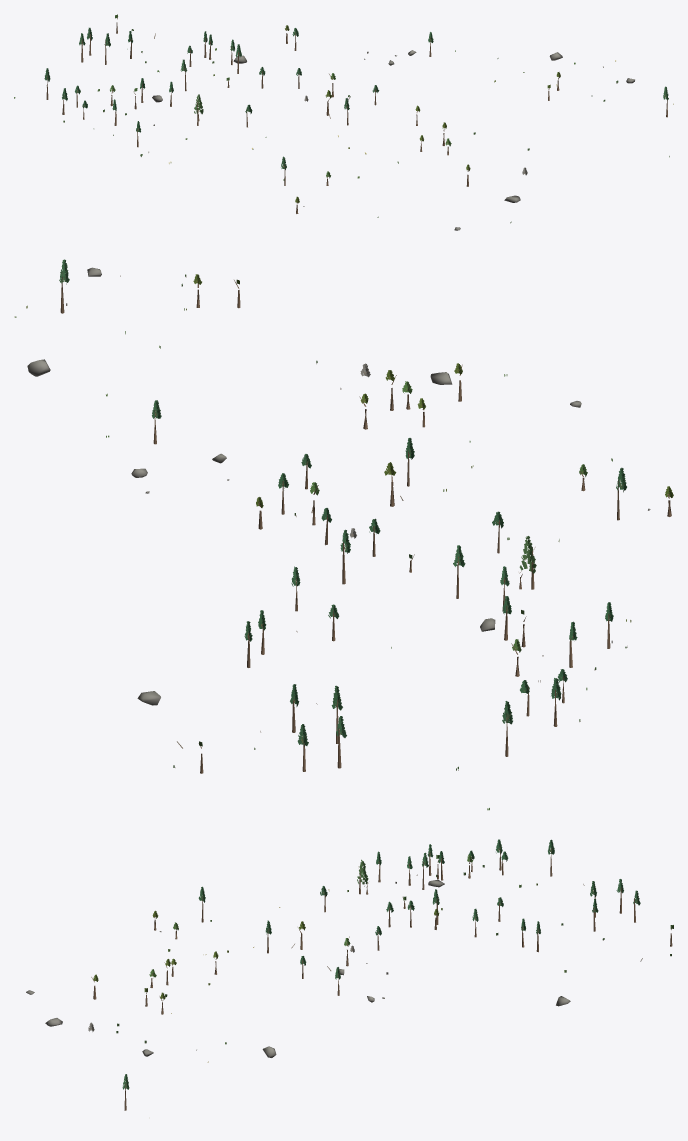
Rendered from arch_land_scatter_c21_22_lod1.glb.
The picture shows the model from 3 angles, top to bottom: view 1: azimuth 30°, elevation 25°; view 2: azimuth 150°, elevation 25°; view 3: azimuth 270°, elevation 25°; orthographic projection. The views are drawn at different scales.
Parts seen in each view (by area): view 1: arch_land_scatter_c21_22_lod1; view 2: arch_land_scatter_c21_22_lod1; view 3: arch_land_scatter_c21_22_lod1.
Part boxes in pixels (x1,y1,x2,y2): arch_land_scatter_c21_22_lod1: [14, 14, 673, 230]; arch_land_scatter_c21_22_lod1: [14, 259, 673, 810]; arch_land_scatter_c21_22_lod1: [26, 839, 673, 1110].
Size of the model in its own units: 186 by 32.54 by 197.
